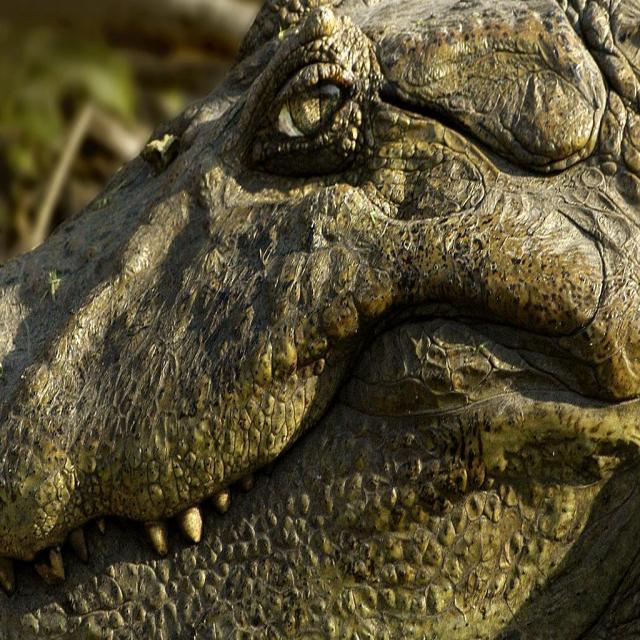crocodile: (3, 0, 639, 636)
